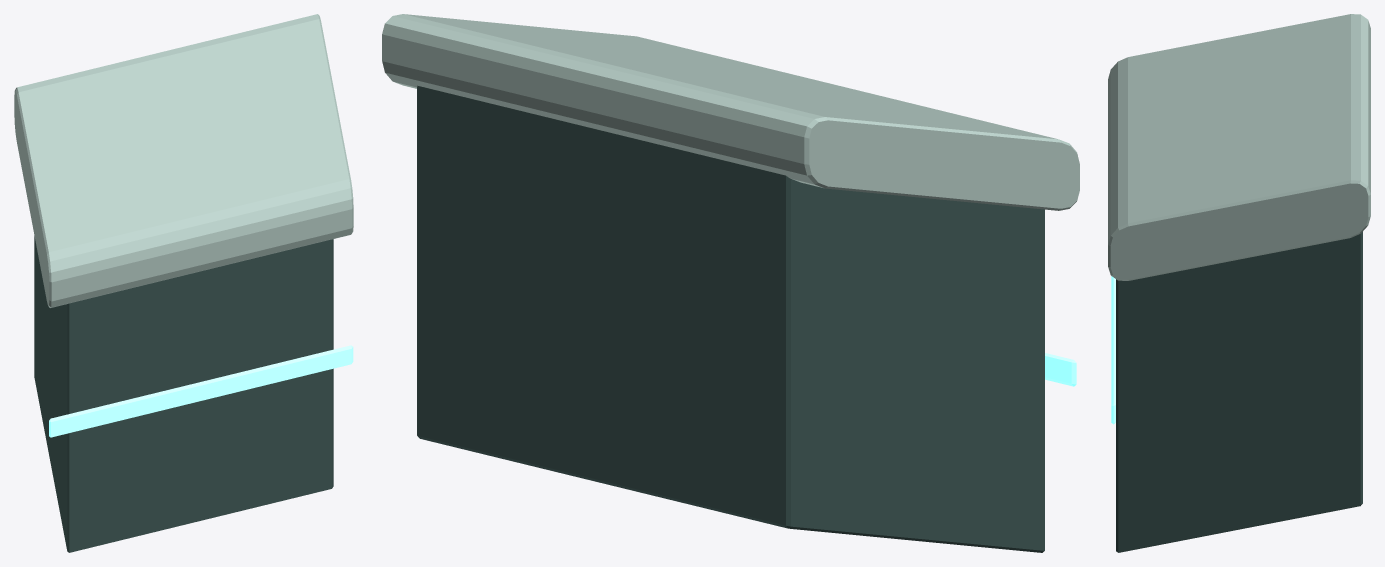
The model's file is Bridge_Deck.gltf.
3 views of the same model, side by side, from view 1: azimuth 30°, elevation 25°; view 2: azimuth 150°, elevation 25°; view 3: azimuth 270°, elevation 25° (orthographic). The views are drawn at different scales.
Parts seen in each view (by area): view 1: Bridge_Deck_baked; view 2: Bridge_Deck_baked; view 3: Bridge_Deck_baked.
Boxes of the visible parts, left/top/right/bottom form: Bridge_Deck_baked: left=14, top=14, right=353, bottom=552; Bridge_Deck_baked: left=382, top=14, right=1079, bottom=552; Bridge_Deck_baked: left=1108, top=14, right=1370, bottom=552.
Size of the model in its own units: 1.26 by 1.17 by 0.66.
